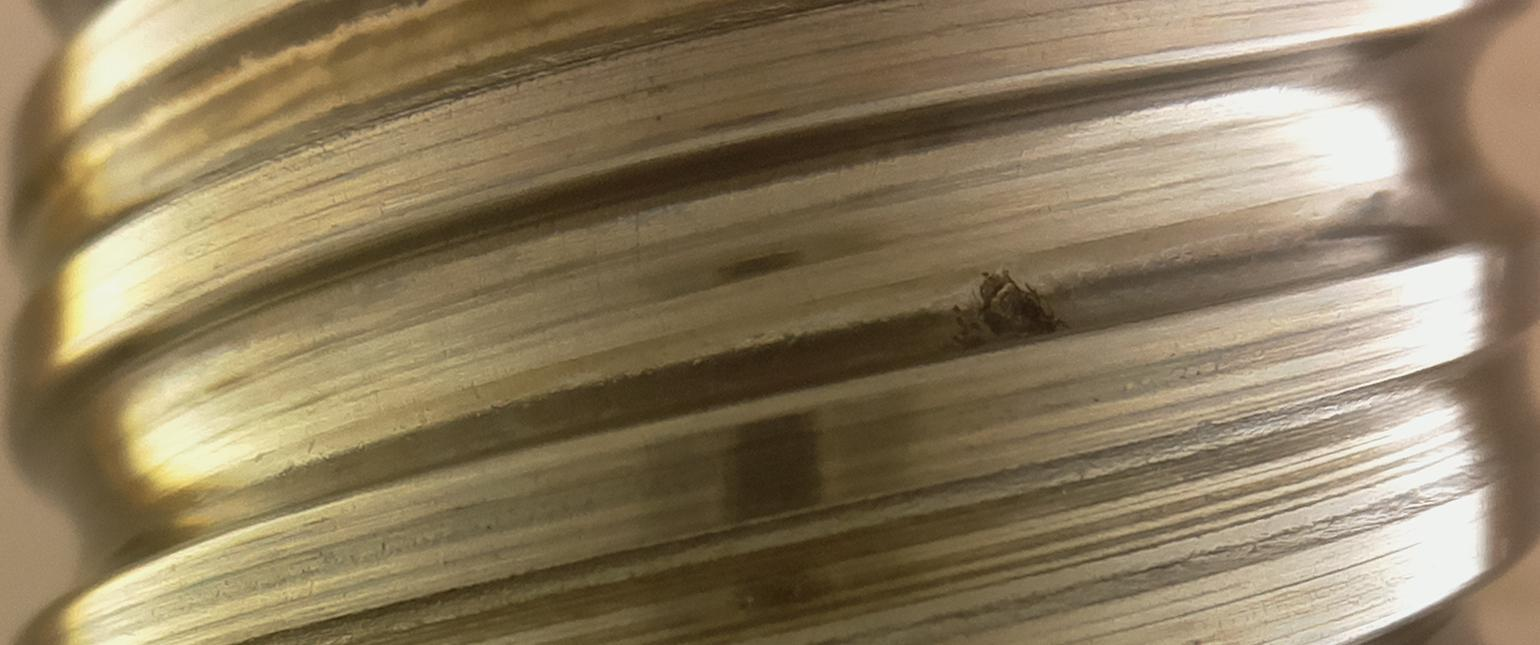pitting: (952, 271, 1063, 349)
